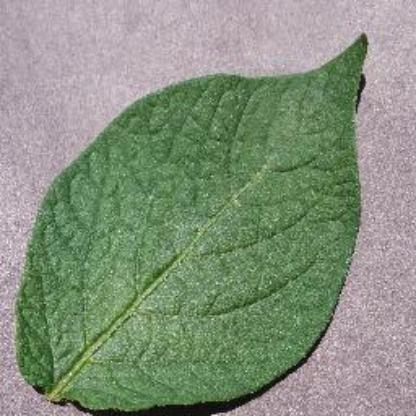Healthy-plant: (14, 28, 392, 406)
